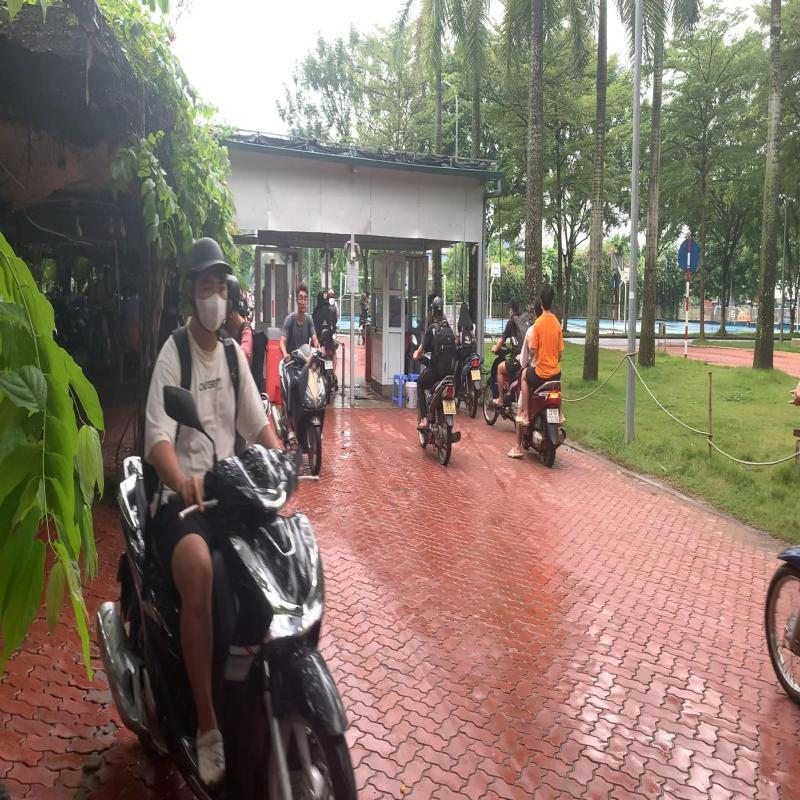nohelmet: (540, 282, 554, 310), (533, 294, 543, 316), (458, 302, 470, 320), (508, 297, 519, 314)
